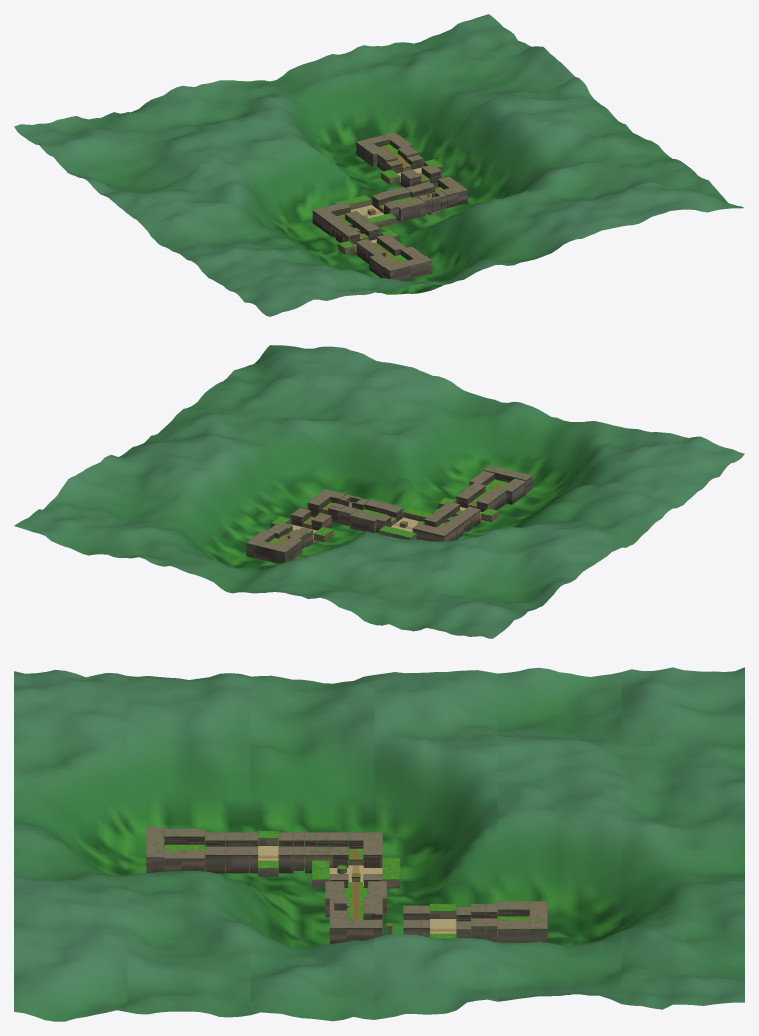
Rendered from firefly_grove_terrain.glb.
The picture shows the model from 3 angles, top to bottom: view 1: azimuth 30°, elevation 25°; view 2: azimuth 150°, elevation 25°; view 3: azimuth 270°, elevation 25°; orthographic projection. The views are drawn at different scales.
Visible parts, largest first — view 1: backdrop_5, backdrop_4, backdrop_3, backdrop_1, backdrop_2, backdrop_0, terrain_I, terrain_E, terrain_A, terrain_H, terrain_C, terrain_F (+3 smaller); view 2: backdrop_0, backdrop_1, backdrop_5, backdrop_4, backdrop_2, backdrop_3, terrain_I, terrain_E, terrain_A, terrain_H, terrain_C, terrain_F (+3 smaller); view 3: backdrop_5, backdrop_0, backdrop_4, backdrop_1, backdrop_3, backdrop_2, terrain_I, terrain_E, terrain_A, terrain_H, terrain_C, terrain_D (+3 smaller).
Boxes of the visible parts, <box> form: backdrop_5: <box>14,14,531,162</box>; backdrop_4: <box>58,46,574,194</box>; backdrop_3: <box>101,77,618,233</box>; backdrop_1: <box>187,149,704,294</box>; backdrop_2: <box>144,118,661,265</box>; backdrop_0: <box>231,179,743,316</box>; terrain_I: <box>356,132,443,186</box>; terrain_E: <box>312,193,399,231</box>; terrain_A: <box>369,246,432,280</box>; terrain_H: <box>404,166,467,207</box>; terrain_C: <box>338,225,398,256</box>; terrain_F: <box>379,187,425,221</box>; backdrop_0: <box>231,345,744,489</box>; backdrop_1: <box>187,374,704,524</box>; backdrop_5: <box>14,495,530,638</box>; backdrop_4: <box>57,462,574,611</box>; backdrop_2: <box>144,408,661,548</box>; backdrop_3: <box>101,440,617,579</box>; terrain_I: <box>246,512,333,563</box>; terrain_E: <box>376,506,456,541</box>; terrain_A: <box>469,465,532,504</box>; terrain_H: <box>294,489,346,528</box>; terrain_C: <box>438,494,498,525</box>; terrain_F: <box>349,499,395,533</box>; backdrop_5: <box>621,667,744,1009</box>; backdrop_0: <box>14,669,127,1021</box>; backdrop_4: <box>498,667,621,1003</box>; backdrop_1: <box>127,673,250,1017</box>; backdrop_3: <box>374,670,497,1019</box>; backdrop_2: <box>250,675,374,1021</box>; terrain_I: <box>421,901,547,942</box>; terrain_E: <box>312,832,400,888</box>; terrain_A: <box>146,827,205,873</box>; terrain_H: <box>329,905,420,943</box>; terrain_C: <box>249,831,293,876</box>; terrain_D: <box>293,832,348,873</box>.
Bounding box in the file's own units: 532 × 61.38 × 497.
